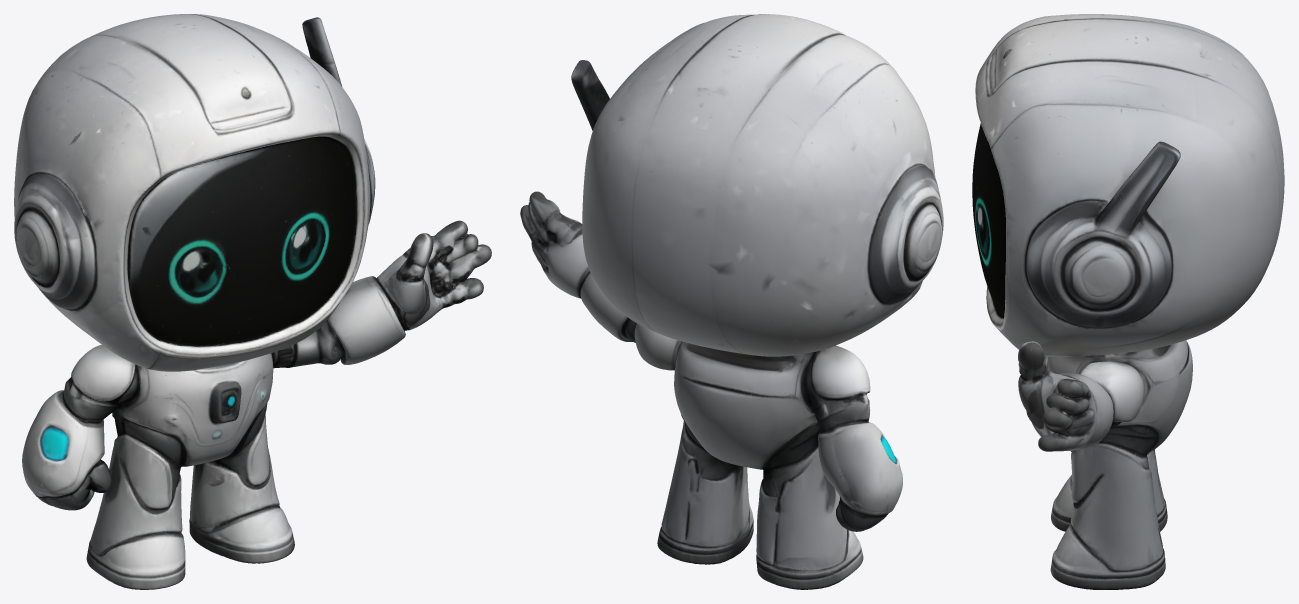
Rendered from robot_gauche-v7.glb.
3 renders of one model, left to right at view 1: azimuth 30°, elevation 25°; view 2: azimuth 150°, elevation 25°; view 3: azimuth 270°, elevation 25°, orthographic.
Parts seen in each view (by area): view 1: geometry_0; view 2: geometry_0; view 3: geometry_0.
Part boxes in pixels (x1=…): geometry_0: x1=14, y1=14, x2=491, y2=589; geometry_0: x1=520, y1=14, x2=943, y2=589; geometry_0: x1=972, y1=14, x2=1284, y2=589.
Bounding box in the file's own units: 0.8853 × 1 × 0.5501.
1 material, 1 textured.
